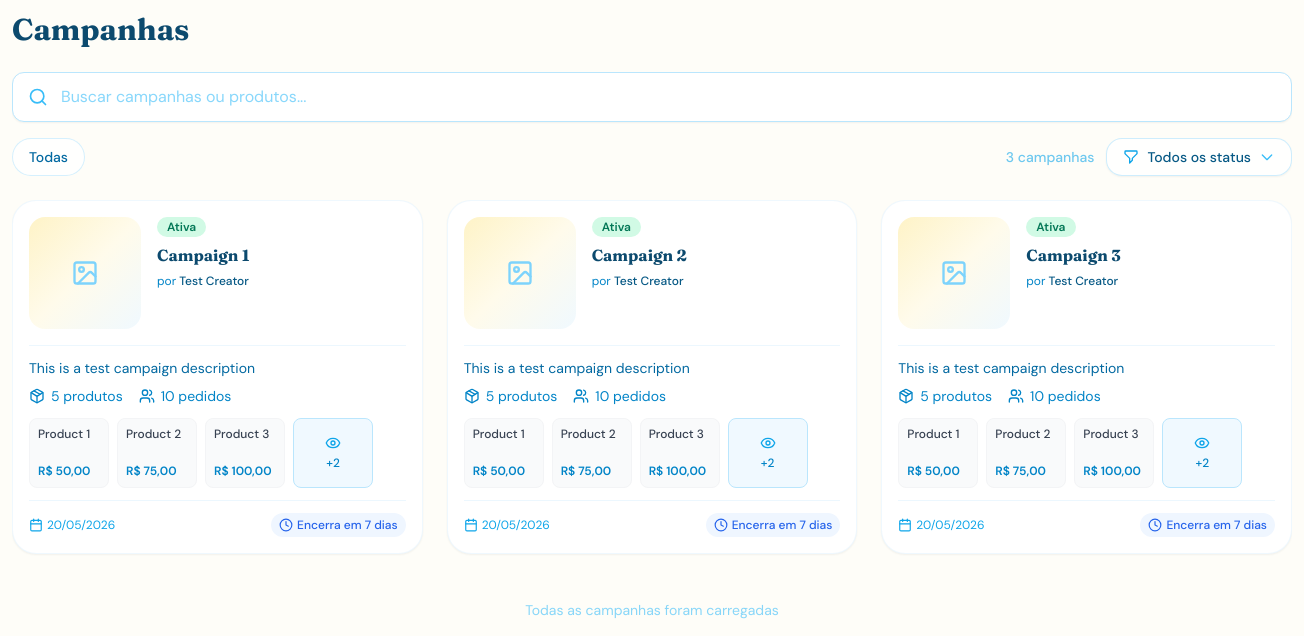
it: CampaignList › Search Functionality › should clear search when X button is clicked
The image size is (1304, 636).
Step 1. Type "test" into the field with placeholder "Buscar campanhas ou produtos..." → (652, 97), box [12,72,1292,122]
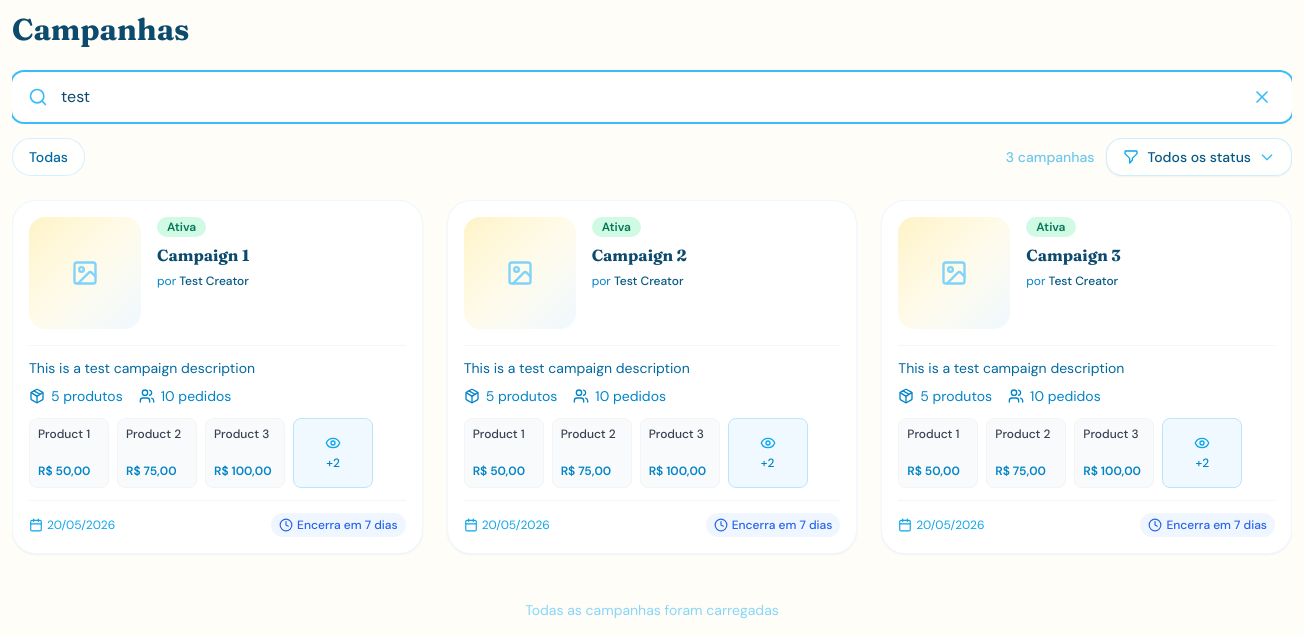
Step 2. Click the button titled "Limpar busca" → (1262, 97), box [1248,83,1276,111]
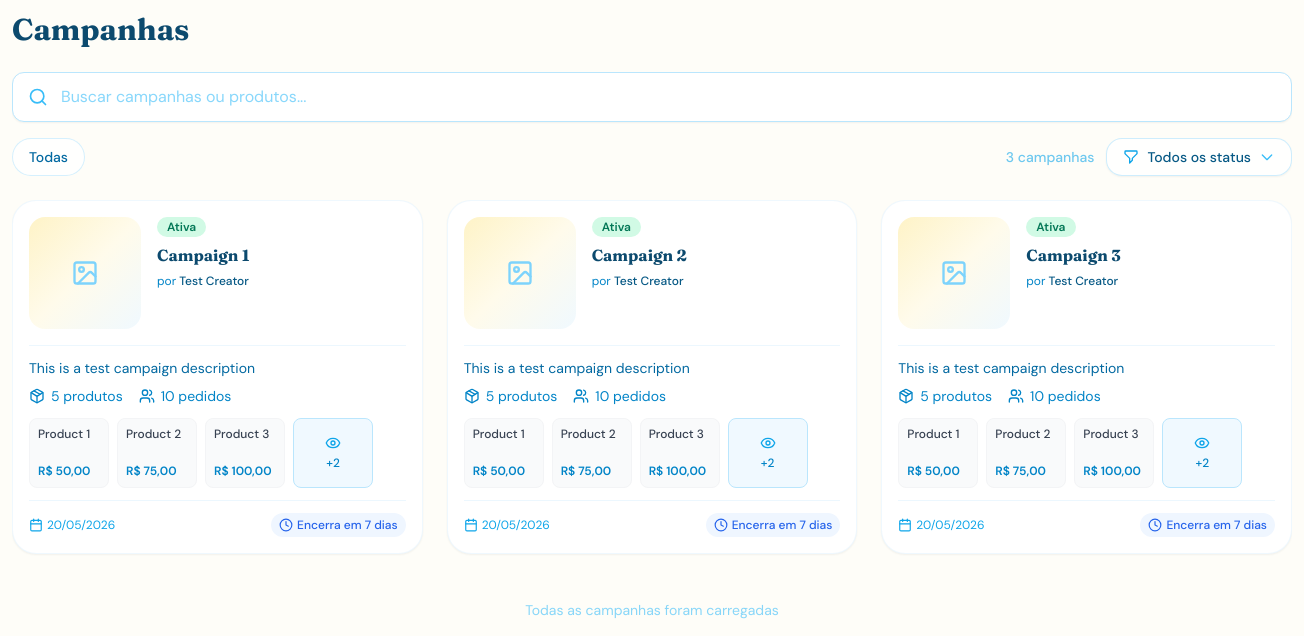
Expected: the field with placeholder "Buscar campanhas ou produtos..." is empty, [12,72,1292,122]
